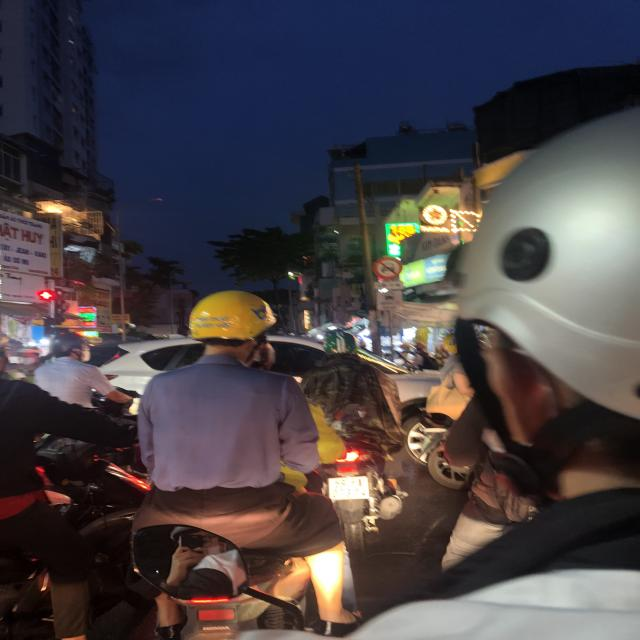Bien bao cam xe oto: (370, 253, 404, 281)
